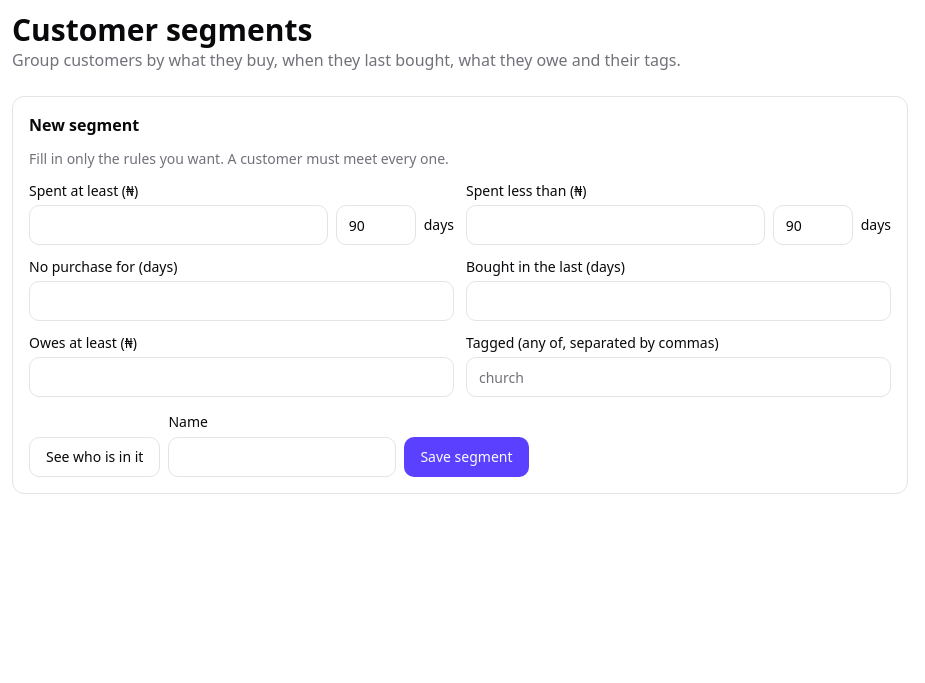
lifetime value is hidden below the Chairman plan
Type "60" into the field labelled "No purchase for" at (242, 301), box [29,281,454,321]
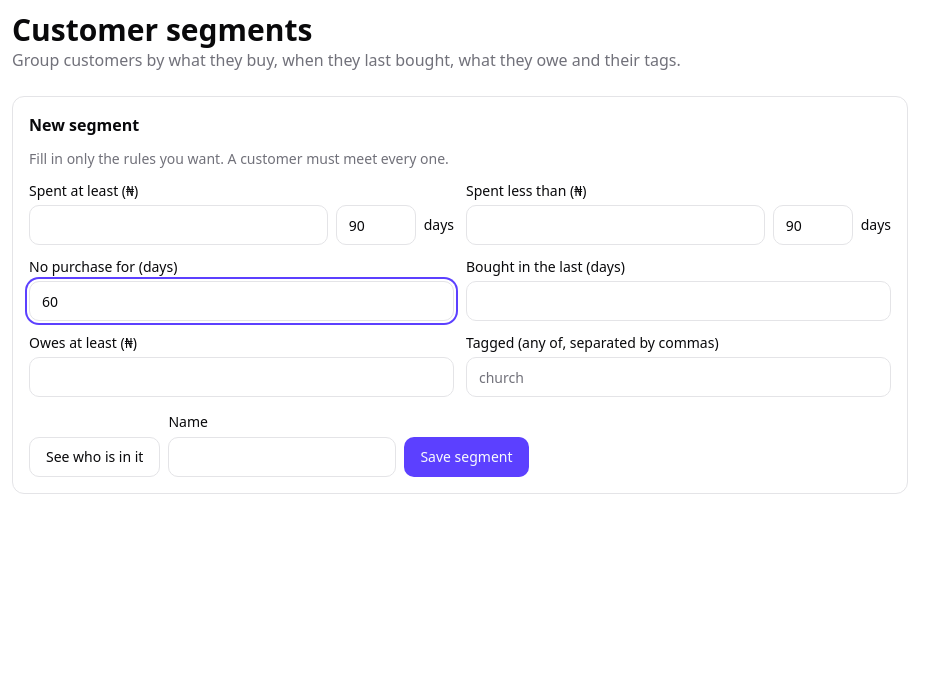
Click the button "See who is in it" at (95, 457), box [29,437,160,477]
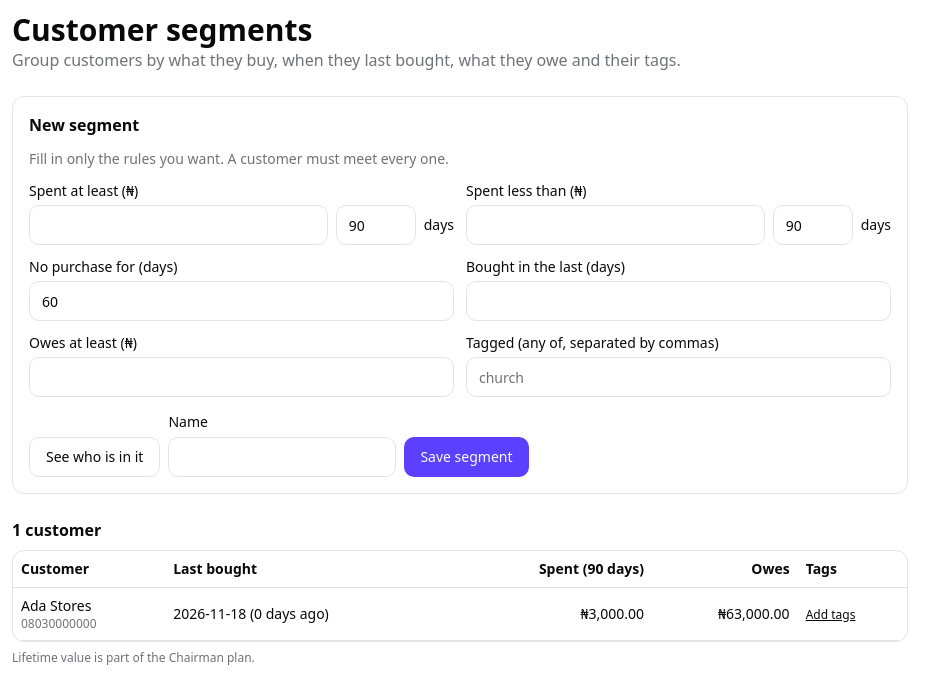
Expected: the text "Lifetime value is part of the Chairman plan." is shown, [12,649,255,666]
